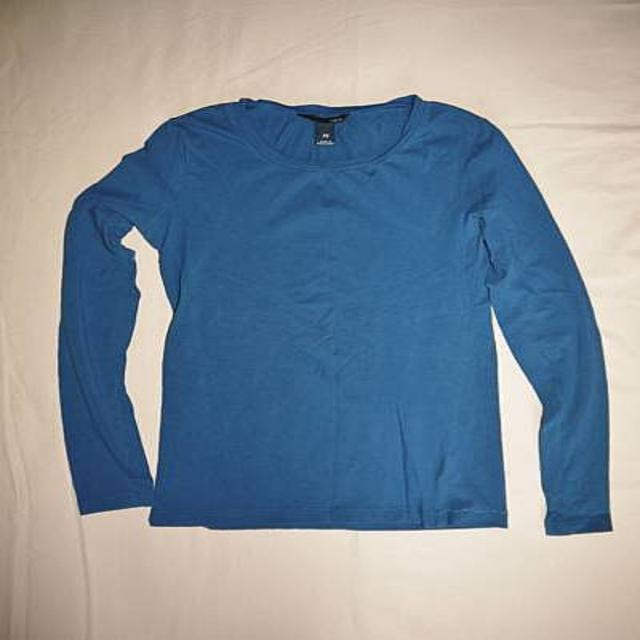SHIRT: (46, 82, 620, 545)
